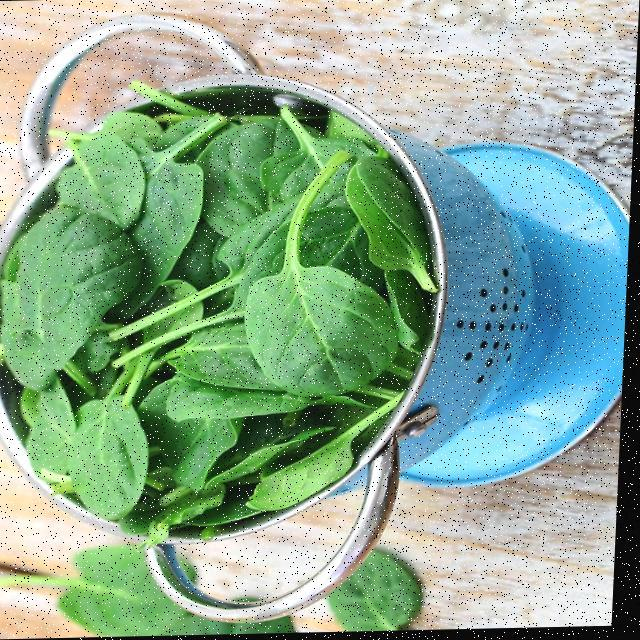Spinach: (0, 78, 441, 538), (0, 539, 453, 640)
